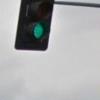Traffic light: (10, 2, 60, 56)
